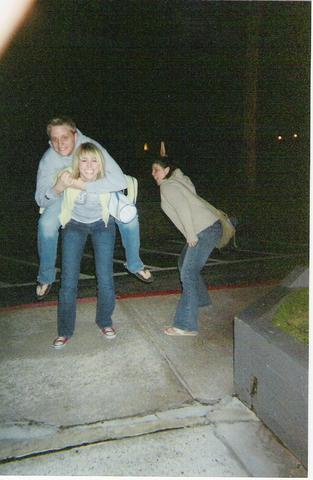person: (32, 115, 156, 298)
